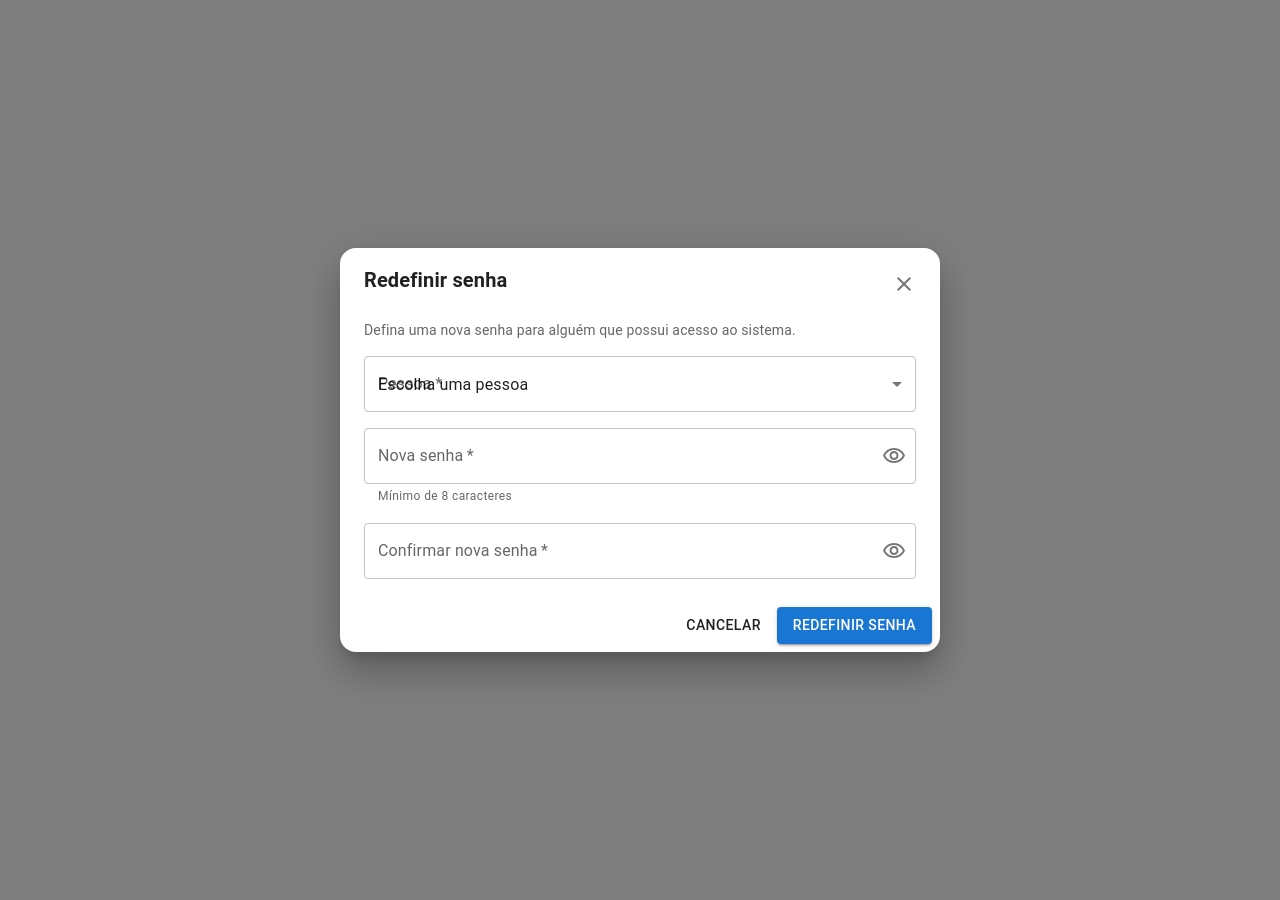
PasswordDialogs › lista as credenciais e deixa a coordenação redefinir uma senha
The width and height of the screenshot is (1280, 900).
Step 1. Select "João Santos — joao@ecos.org" in the dropdown labelled "Pessoa" → (640, 384), box [364,356,916,412]
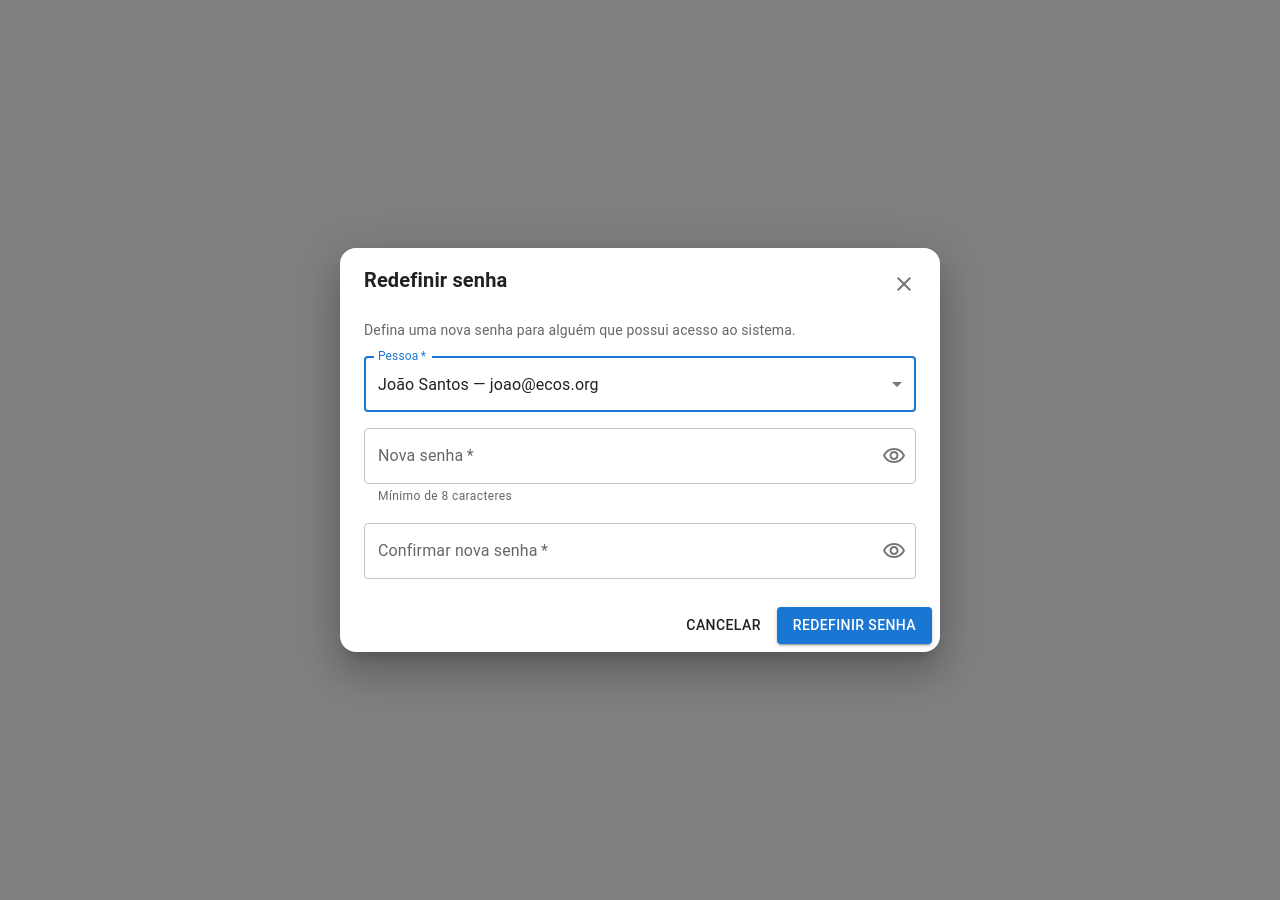
Step 2. Type "senha-temporaria" into the password field labelled "Nova senha *" → (615, 456), box [364,428,866,484]
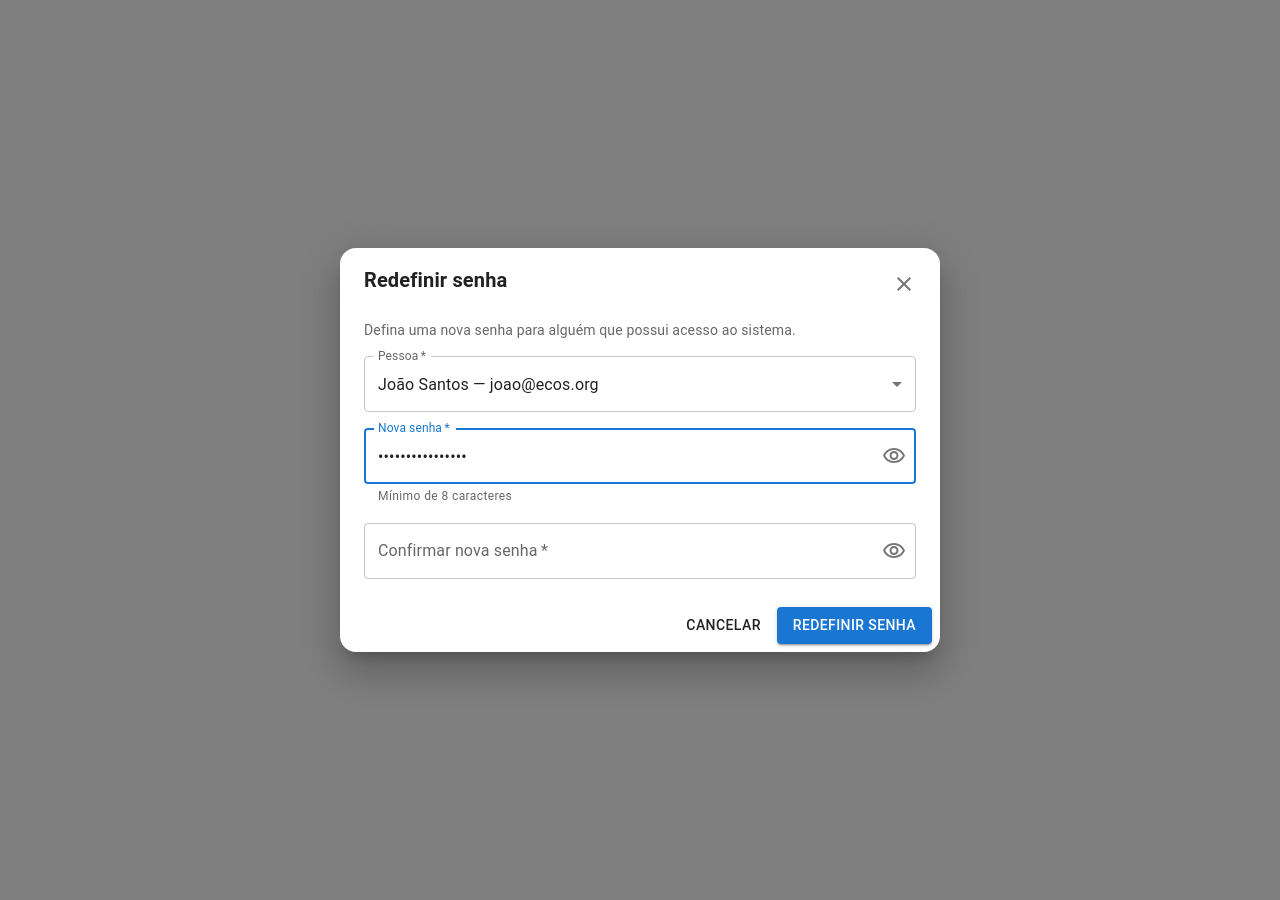
Step 3. Type "senha-temporaria" into the password field labelled "Confirmar nova senha *" → (615, 551), box [364,523,866,579]
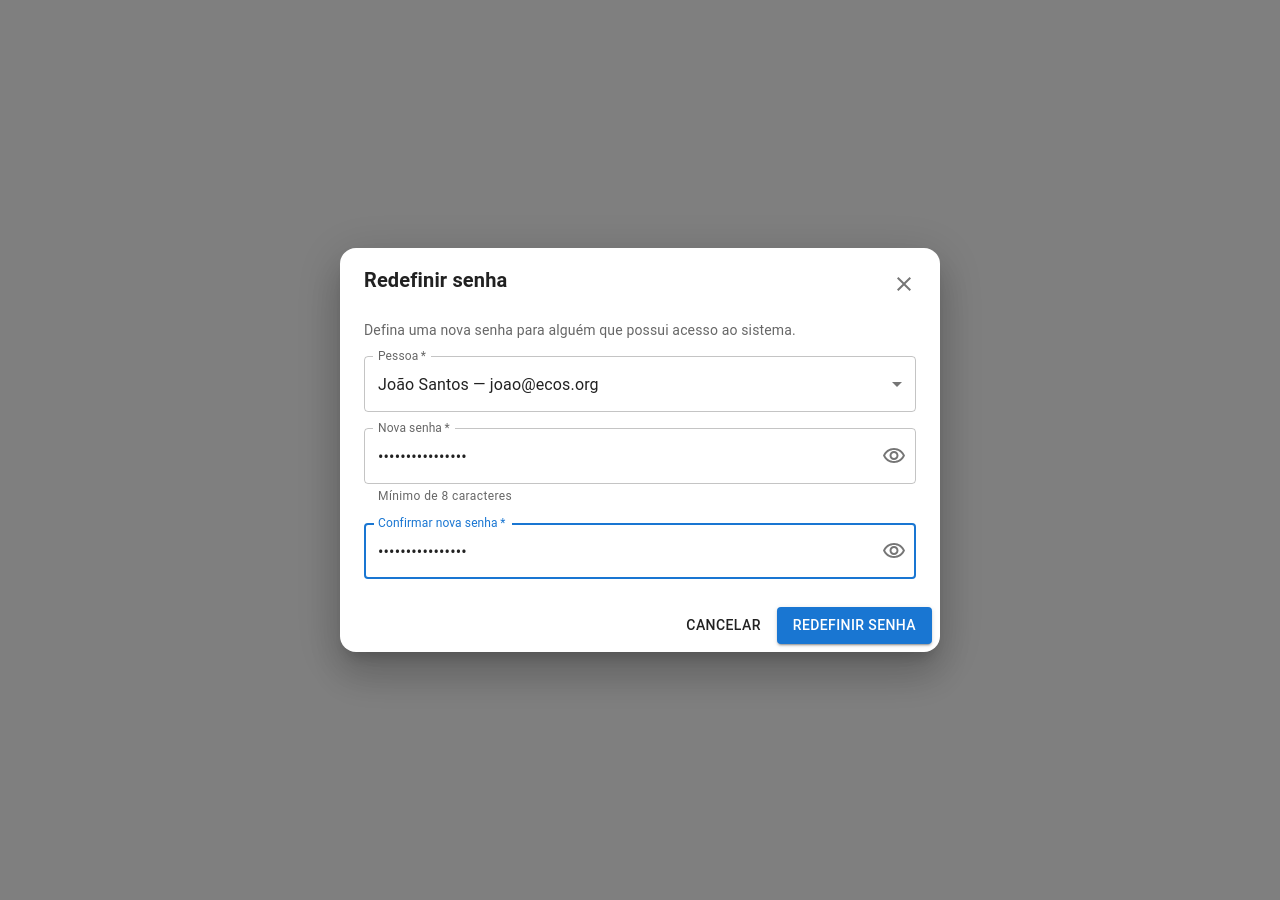
Step 4. Click the button "Redefinir senha" → (854, 625), box [777,607,932,644]
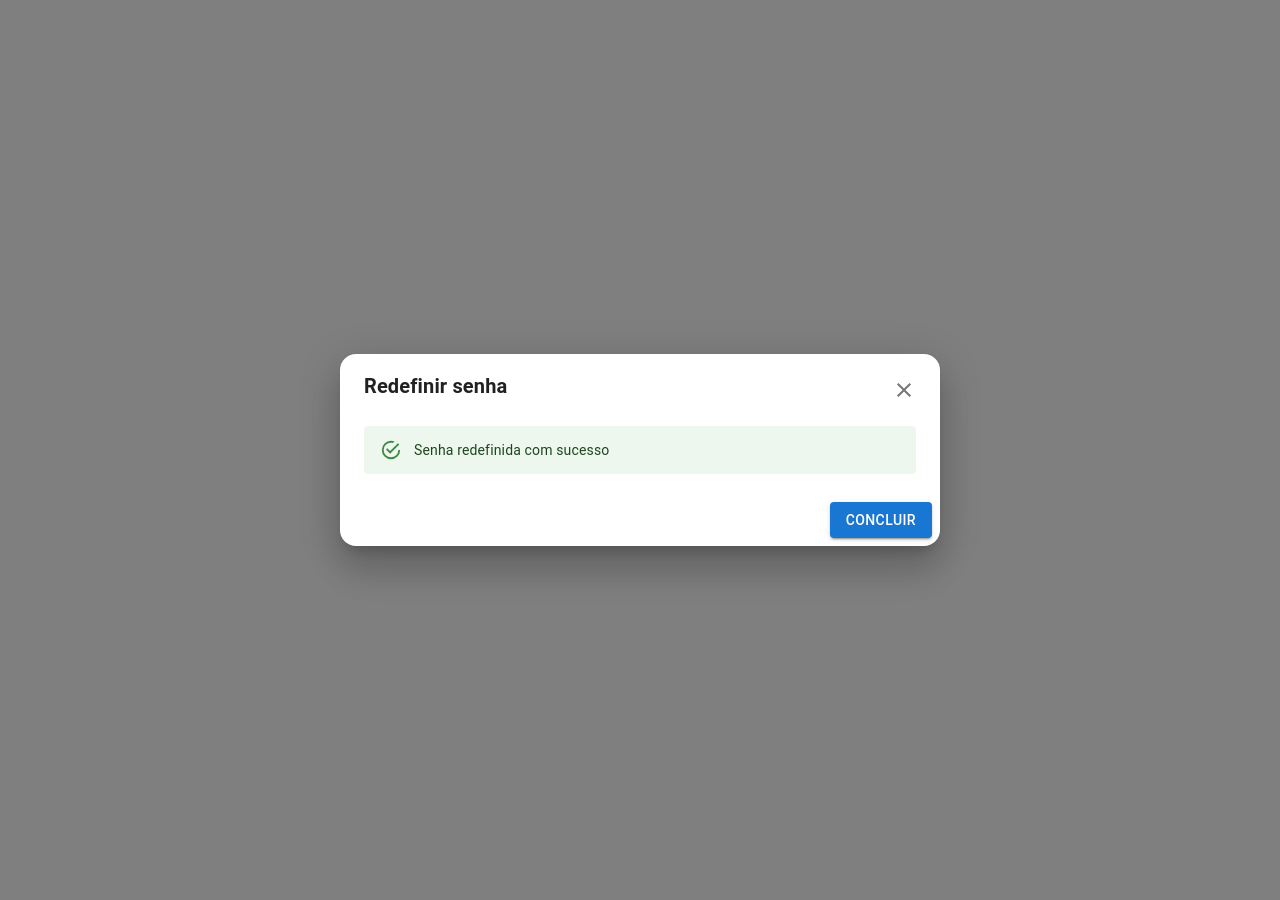
Expected: the text "Senha redefinida com sucesso" is shown, [414,442,609,458]
